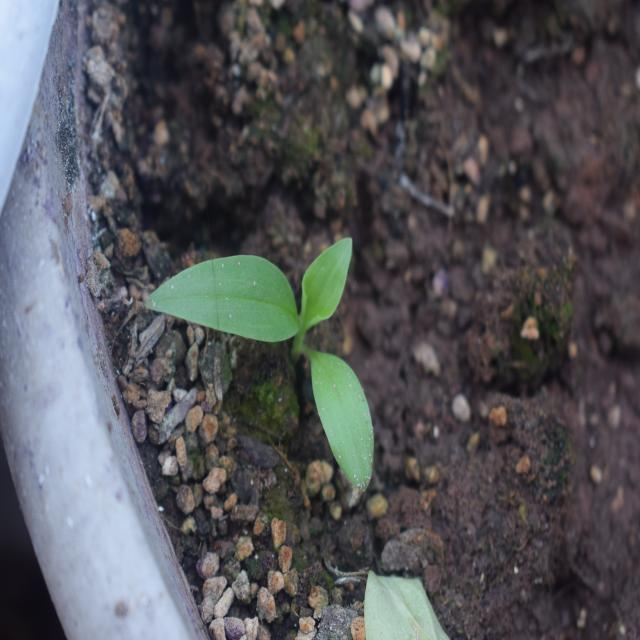Common Dayflower: (149, 228, 402, 502)
